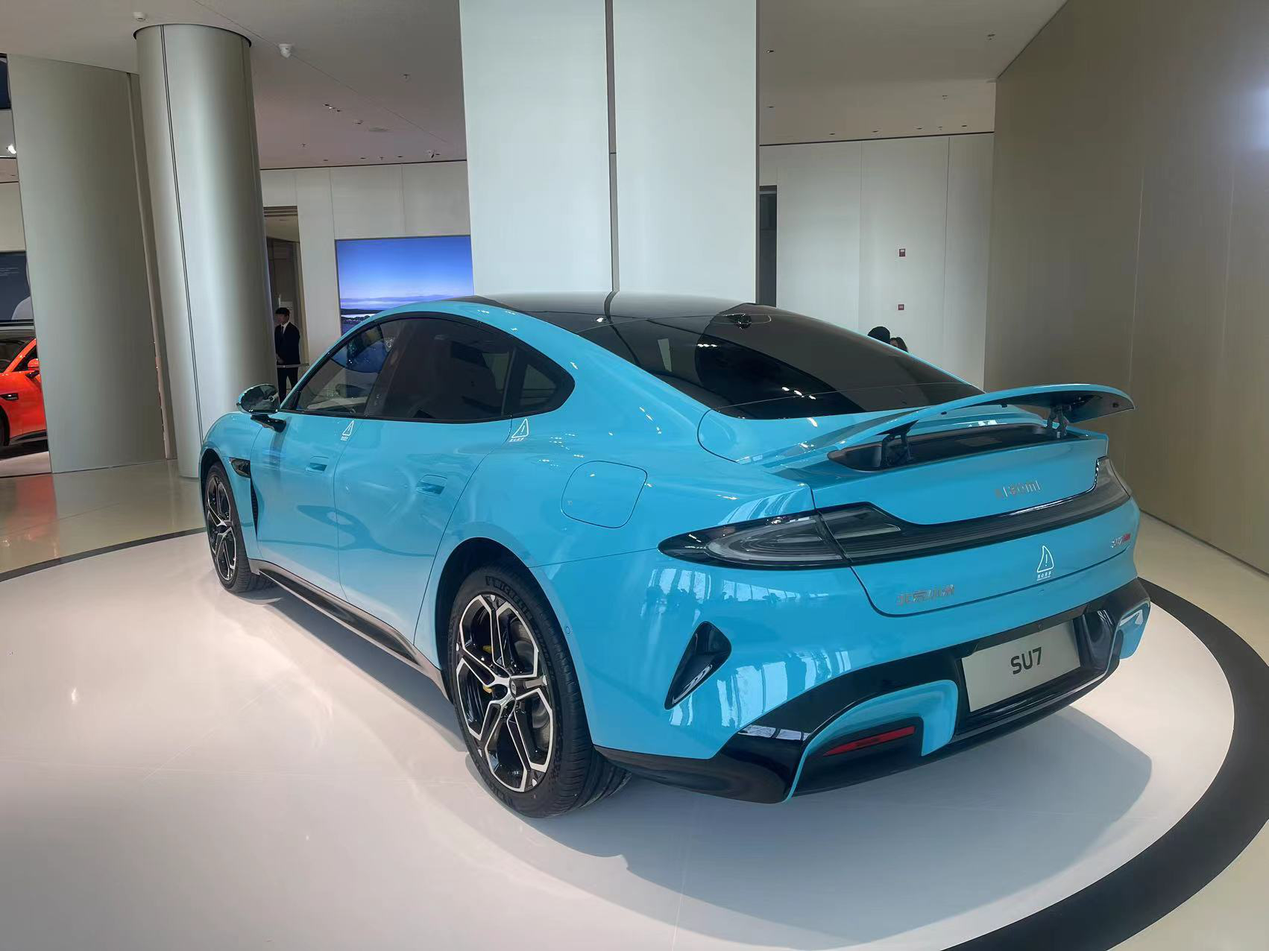su7: (189, 284, 1168, 815)
